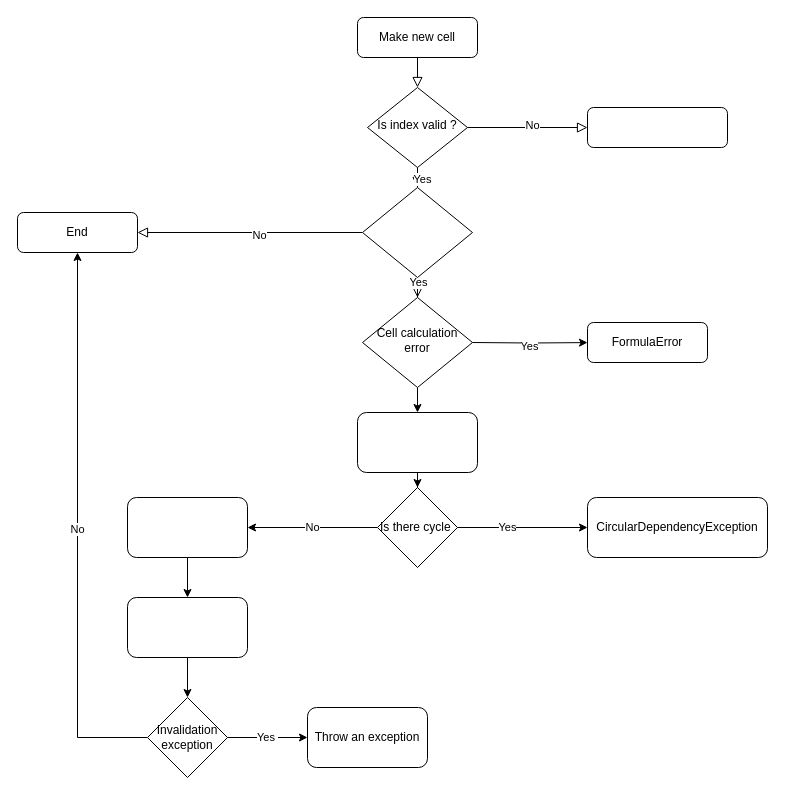
Some shapes in this 785 by 795 pixel diagram are drawn without their labels. The shapes that lost their labels are listed below. From the top down, each one's box as (x1, y1, x2, y2) in pixels, then its label:
(586, 106, 728, 148): InvalidPositionException
(362, 186, 472, 278): Is cell created ?
(356, 412, 478, 472): Search for cyclic dependencies
(126, 496, 248, 558): Add temp cell to the sheet
(126, 596, 248, 658): Destroy temp cell / Invalidade cache
